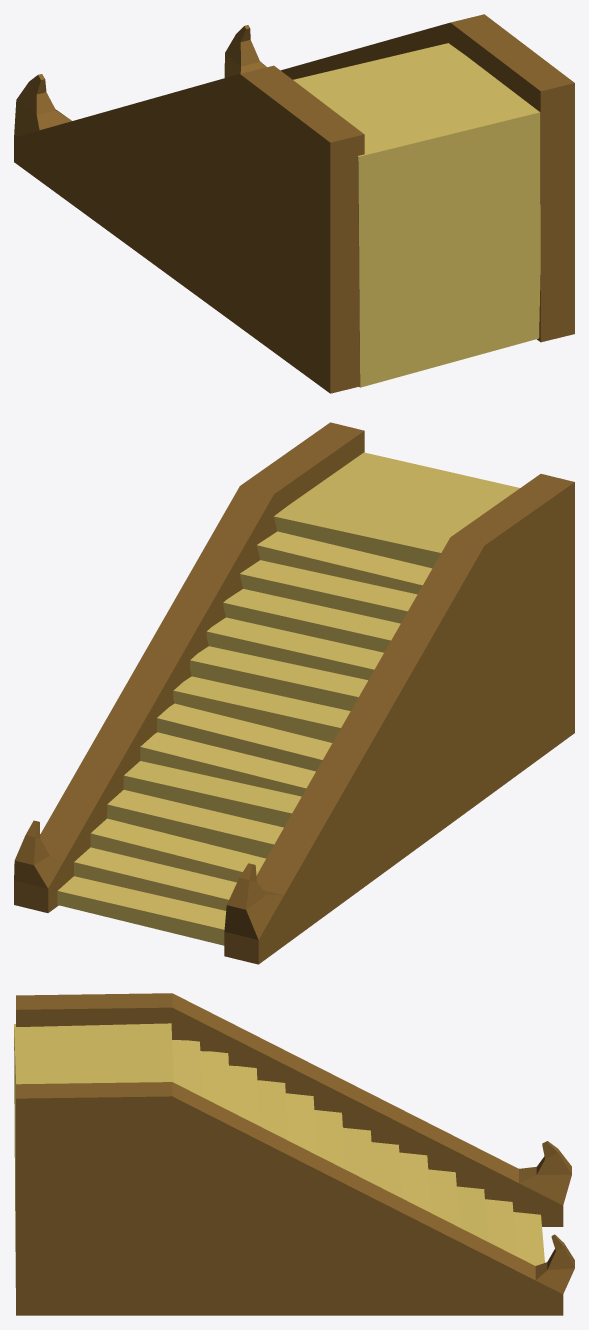
The model's file is Desert_Structure_Stairs.fbx.
3 views of the same model, one above another, from view 1: azimuth 30°, elevation 25°; view 2: azimuth 150°, elevation 25°; view 3: azimuth 270°, elevation 25° (orthographic). The views are drawn at different scales.
Parts seen in each view (by area): view 1: Desert Structure Stairs; view 2: Desert Structure Stairs; view 3: Desert Structure Stairs.
Part boxes in pixels (bbox=[...]): Desert Structure Stairs: bbox=[14, 14, 574, 393]; Desert Structure Stairs: bbox=[14, 422, 574, 964]; Desert Structure Stairs: bbox=[14, 993, 574, 1315].
Size of the model in its own units: 444 by 443 by 1019.
